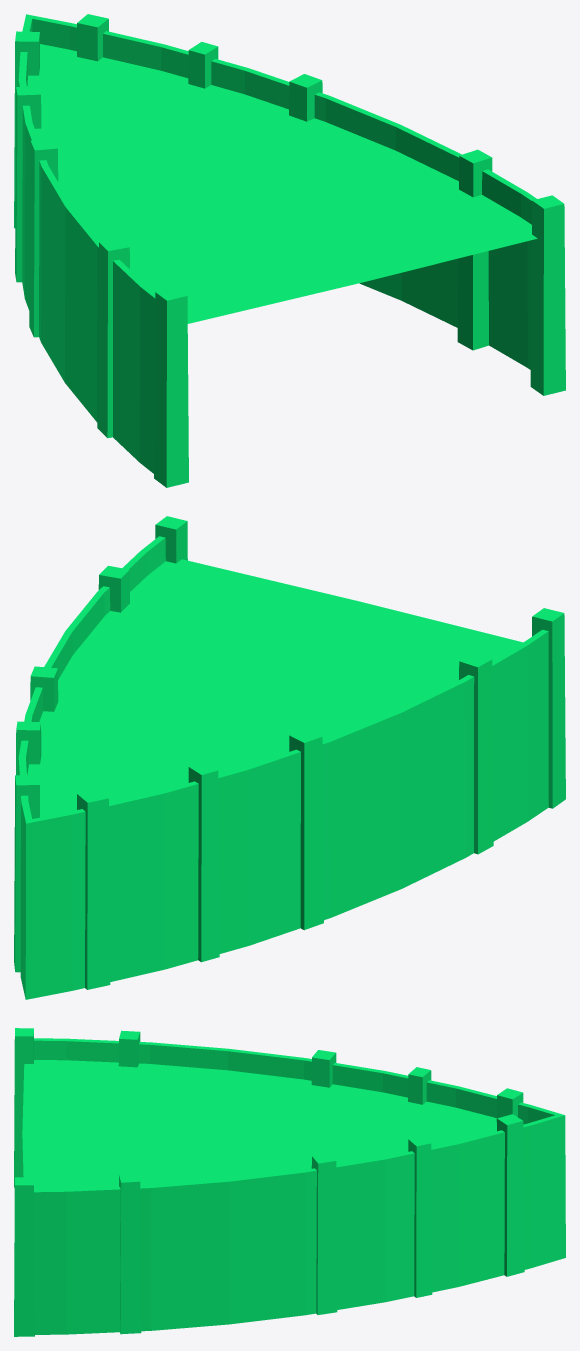
Rendered from StonePlatformChunk_Collision.FBX.
3 renders of one model, top to bottom at view 1: azimuth 30°, elevation 25°; view 2: azimuth 150°, elevation 25°; view 3: azimuth 270°, elevation 25°, orthographic. The views are drawn at different scales.
Visible parts, largest first — view 1: StonePlatformChunk_Collision; view 2: StonePlatformChunk_Collision; view 3: StonePlatformChunk_Collision.
Part boxes in pixels (x1,y1,x2,y2): StonePlatformChunk_Collision: [14, 14, 565, 487]; StonePlatformChunk_Collision: [14, 516, 565, 999]; StonePlatformChunk_Collision: [14, 1028, 565, 1336].
Bounding box in the file's own units: 14.02 × 6.25 × 20.7.
